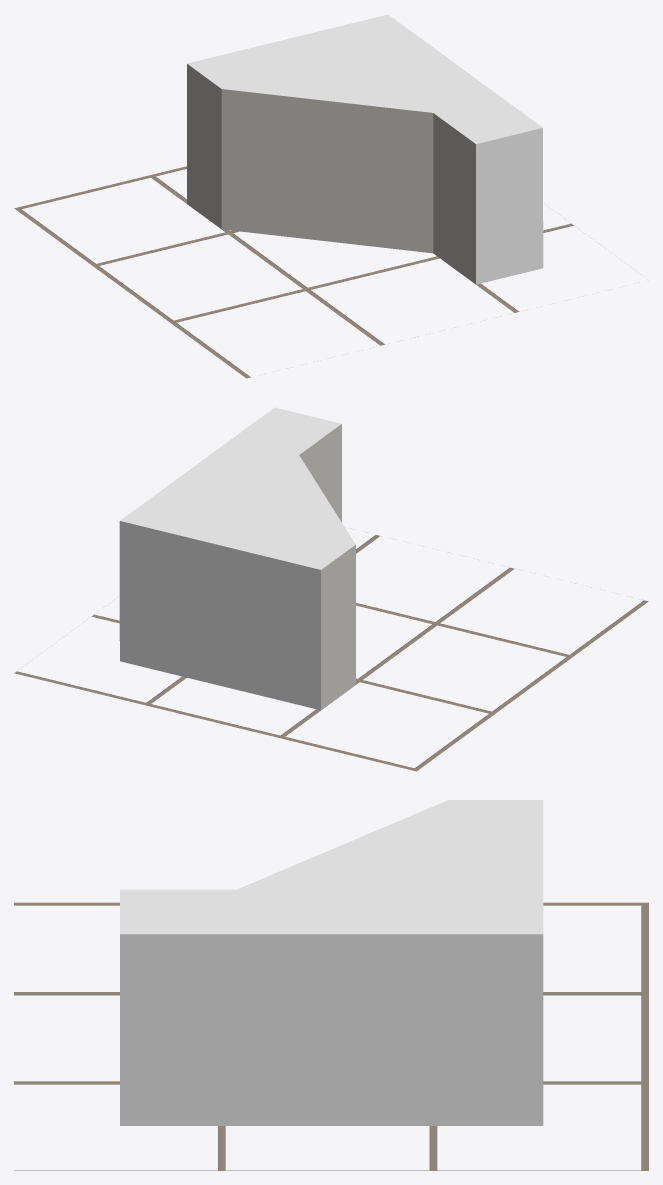
Rendered from Basic_Esse_Mid_2x2.glb.
3 views of the same model, one above another, from view 1: azimuth 30°, elevation 25°; view 2: azimuth 150°, elevation 25°; view 3: azimuth 270°, elevation 25° (orthographic). The views are drawn at different scales.
Parts seen in each view (by area): view 1: Basic_Esse_Mid_2x2, Floor; view 2: Basic_Esse_Mid_2x2, Floor; view 3: Basic_Esse_Mid_2x2, Floor.
Part boxes in pixels (bbox=[...]): Basic_Esse_Mid_2x2: bbox=[187, 14, 543, 284]; Floor: bbox=[14, 166, 573, 378]; Basic_Esse_Mid_2x2: bbox=[119, 407, 355, 710]; Floor: bbox=[14, 535, 648, 771]; Basic_Esse_Mid_2x2: bbox=[120, 800, 543, 1125]; Floor: bbox=[14, 902, 648, 1170].
Bounding box in the file's own units: 300 × 100 × 300.
Materials: 3 (1 with a texture image).
